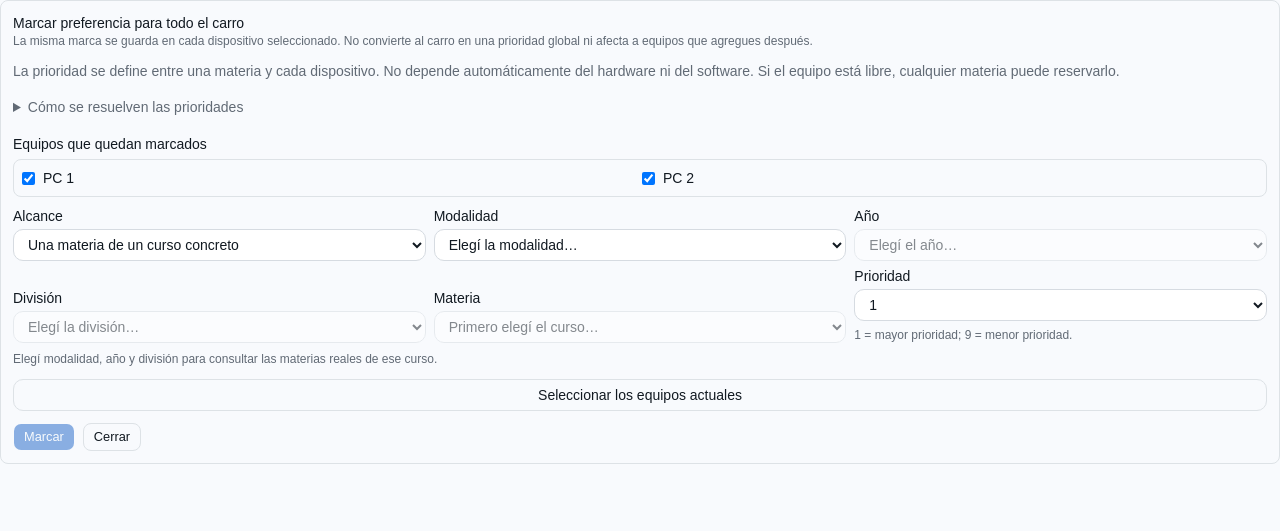
Test: el resultado de un solo equipo se lee en singular
The width and height of the screenshot is (1280, 531).
Expected: the text "PC 1" is shown, 22,170 -> 74,186
Select "Regla general para varios cursos o espacios" in the dropdown labelled "Alcance" at (219, 245), box 13,229 -> 426,261
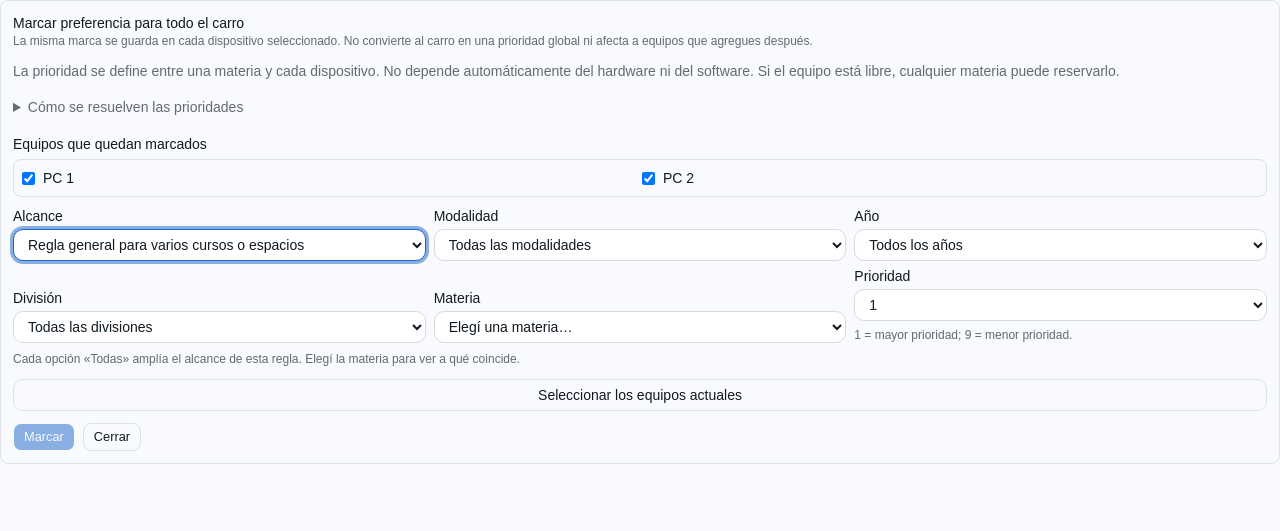
Select "Dibujo Técnico" in the dropdown labelled "Materia" at (640, 327), box 434,311 -> 846,343
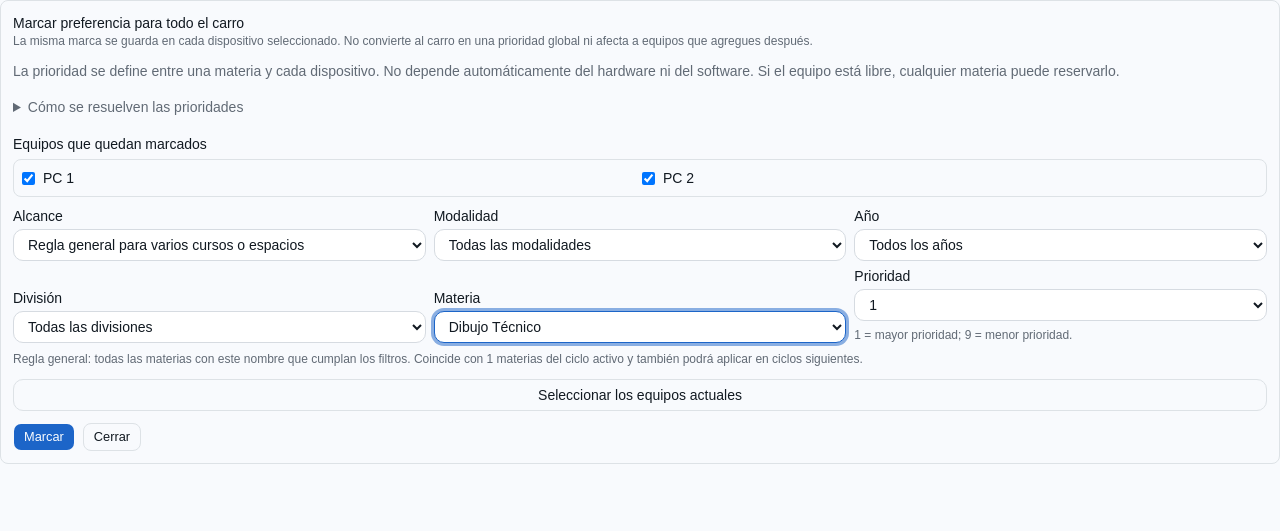
Click the button "Marcar" at (44, 437), box 13,423 -> 75,451
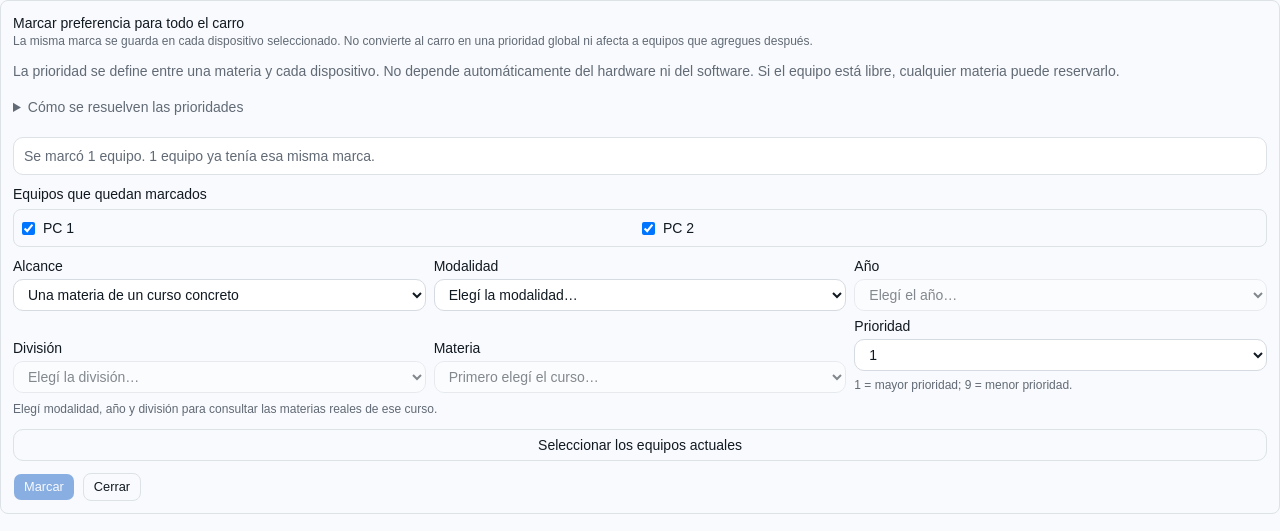
Expected: the text "Se marcó 1 equipo. 1 equipo ya tenía esa misma marca." is shown, 24,148 -> 375,164
